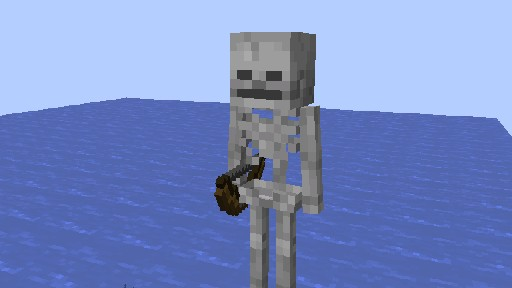skeleton: (213, 30, 323, 288)
